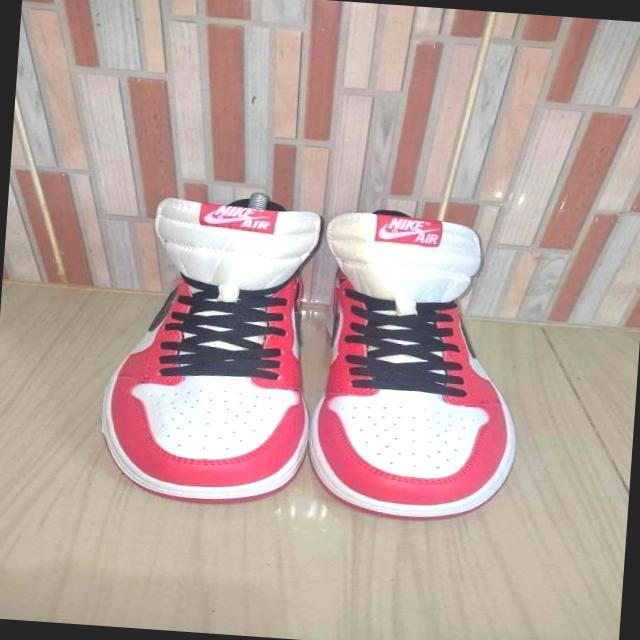nike_fake_jordan: (90, 176, 332, 516), (304, 204, 526, 526)
